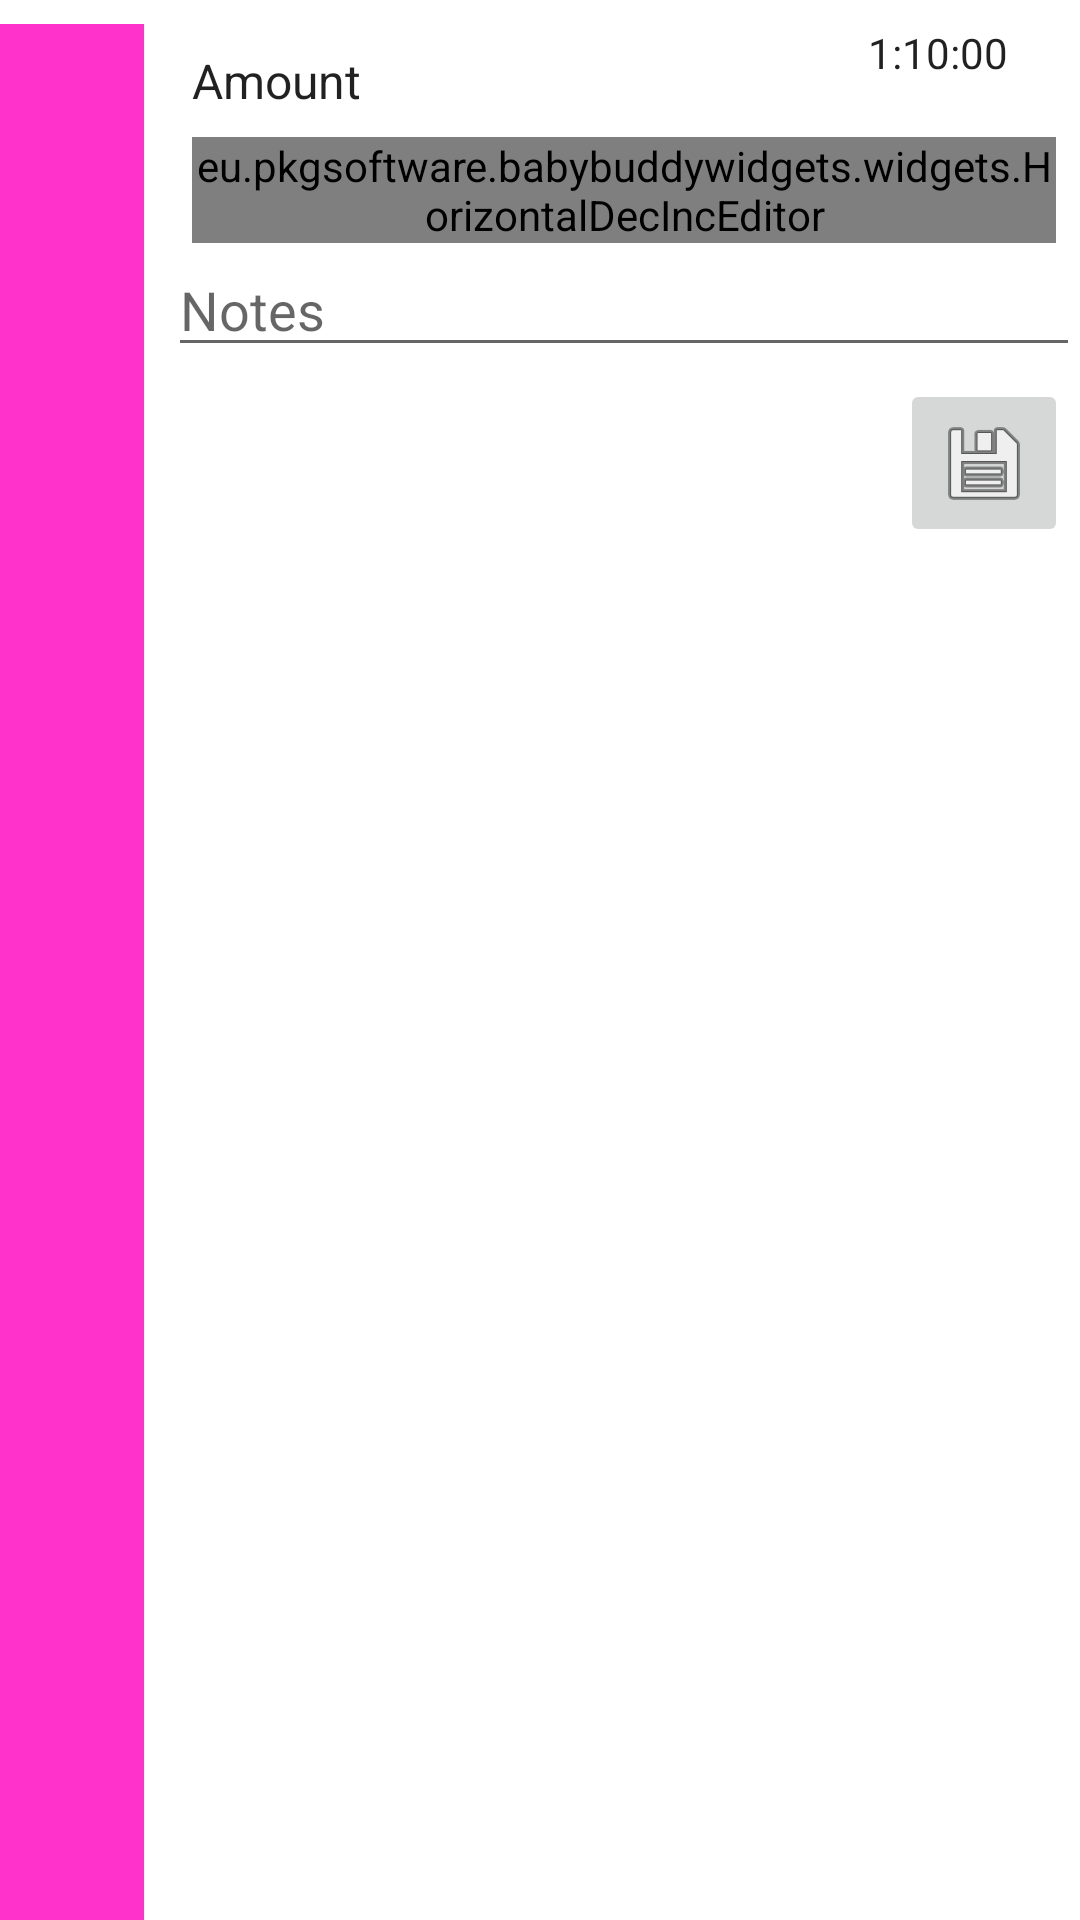

Screen size 1080px×1920px. Icon name, then its center in pixels as (x,y):
save: (984,463)
